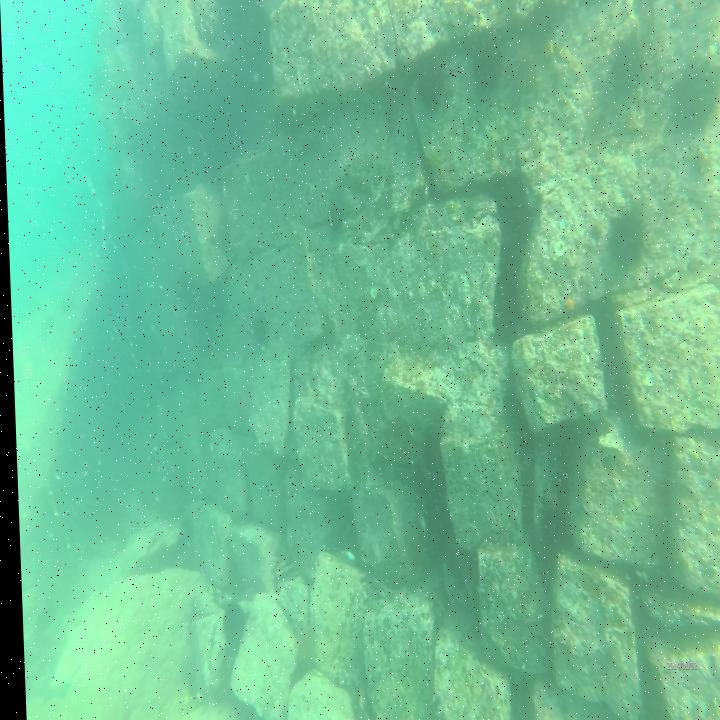echinus: (673, 62, 713, 133), (603, 204, 647, 266), (608, 36, 642, 96), (474, 39, 502, 97), (413, 66, 445, 112), (213, 602, 246, 646), (247, 314, 268, 348), (324, 213, 339, 238)
